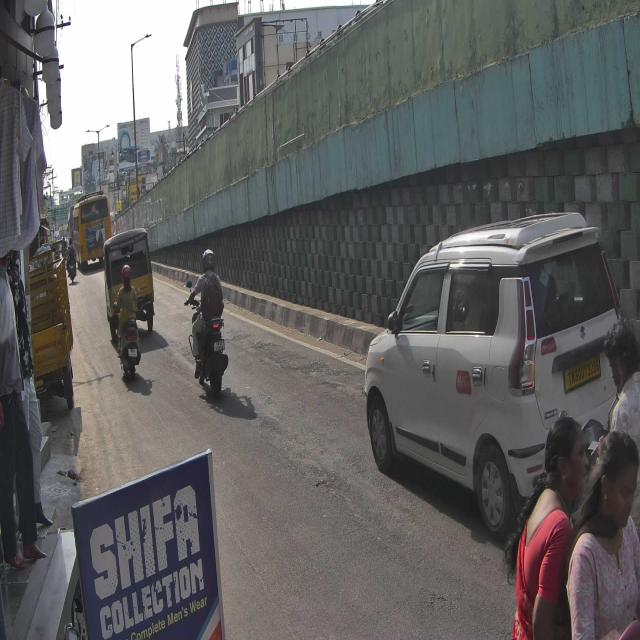single_rider: (183, 248, 230, 401)
